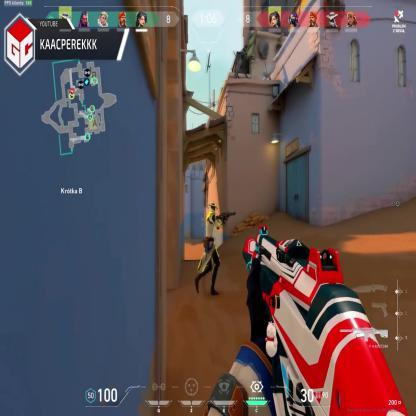enemy: (196, 199, 221, 290)
enemy_head: (209, 202, 218, 214)
